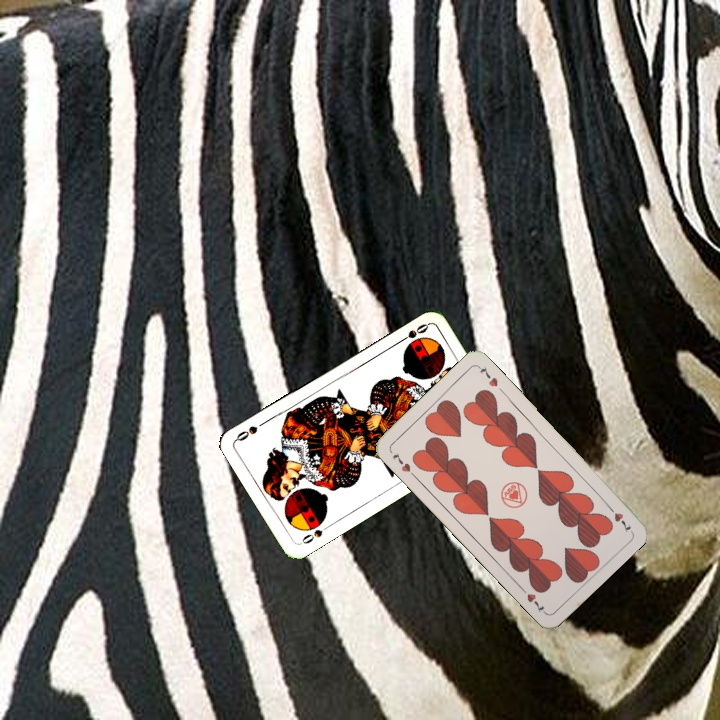H7: (603, 500, 634, 534), (388, 449, 418, 480)
SO: (394, 319, 431, 346), (296, 521, 333, 547)
